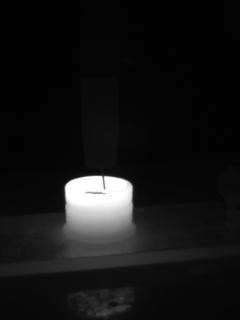tip_wire_left: (85, 164, 106, 193)
tip_wire_right: (103, 163, 117, 193)
